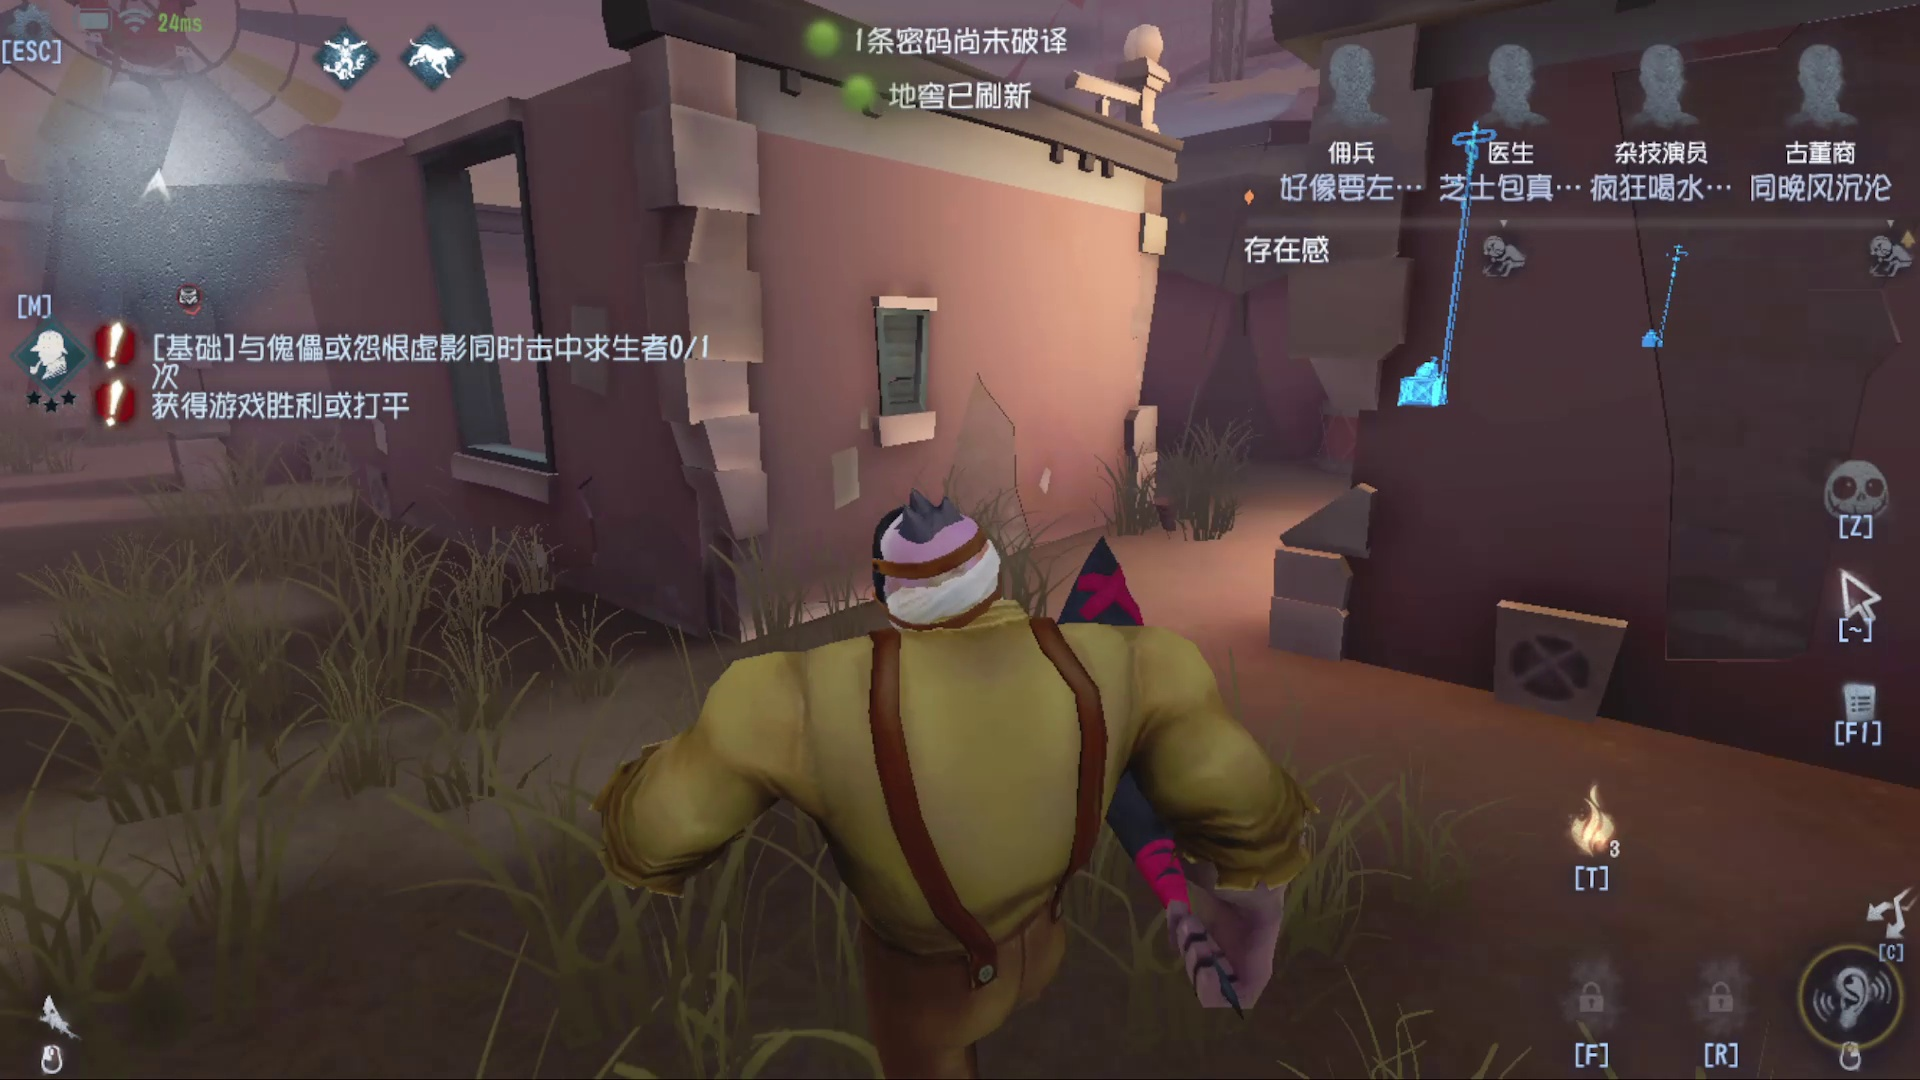密码机: (1374, 116, 1520, 415), (1635, 228, 1702, 367)
